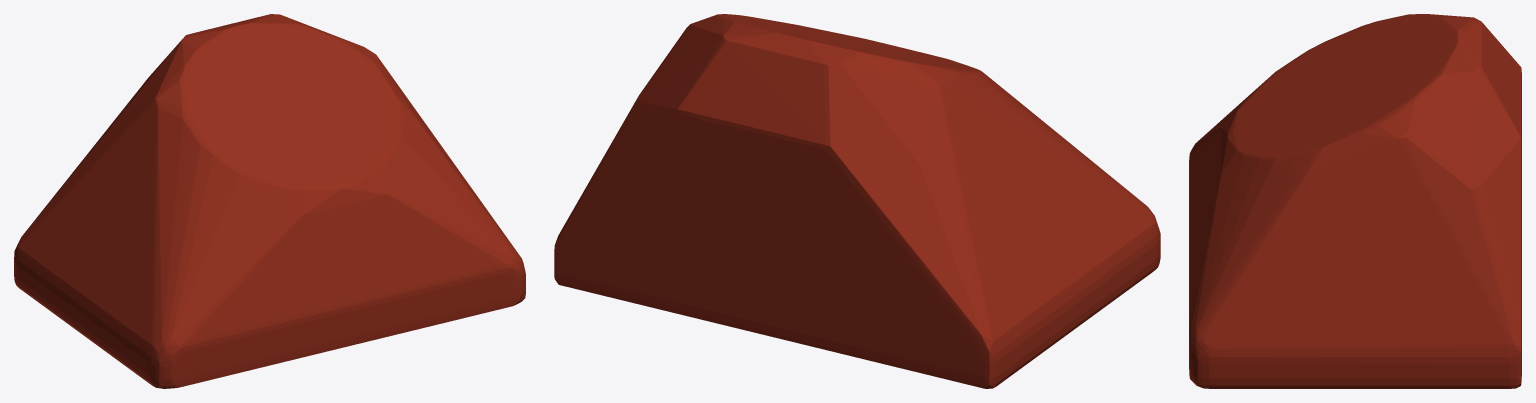
Rendered from torso_link_part_15.obj.
The picture shows the model from 3 angles, left to right: view 1: azimuth 30°, elevation 25°; view 2: azimuth 150°, elevation 25°; view 3: azimuth 270°, elevation 25°; orthographic projection. The views are drawn at different scales.
Size of the model in its own units: 0.1486 by 0.0882 by 0.1027.
